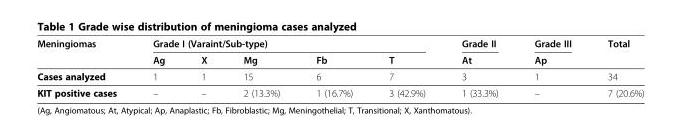table: (36, 37, 643, 98)
table column: (36, 37, 134, 98), (224, 37, 297, 98), (297, 37, 370, 98), (442, 37, 515, 98), (515, 37, 588, 98), (370, 37, 442, 98), (588, 37, 643, 98), (134, 37, 182, 98), (182, 37, 224, 98)
table column header: (36, 37, 643, 67)
table row: (36, 67, 643, 84), (36, 51, 643, 67), (36, 37, 643, 51), (36, 84, 643, 98)
table spanning cell: (134, 37, 442, 51), (36, 37, 134, 67), (442, 37, 515, 67), (515, 37, 588, 67), (588, 37, 643, 67)
